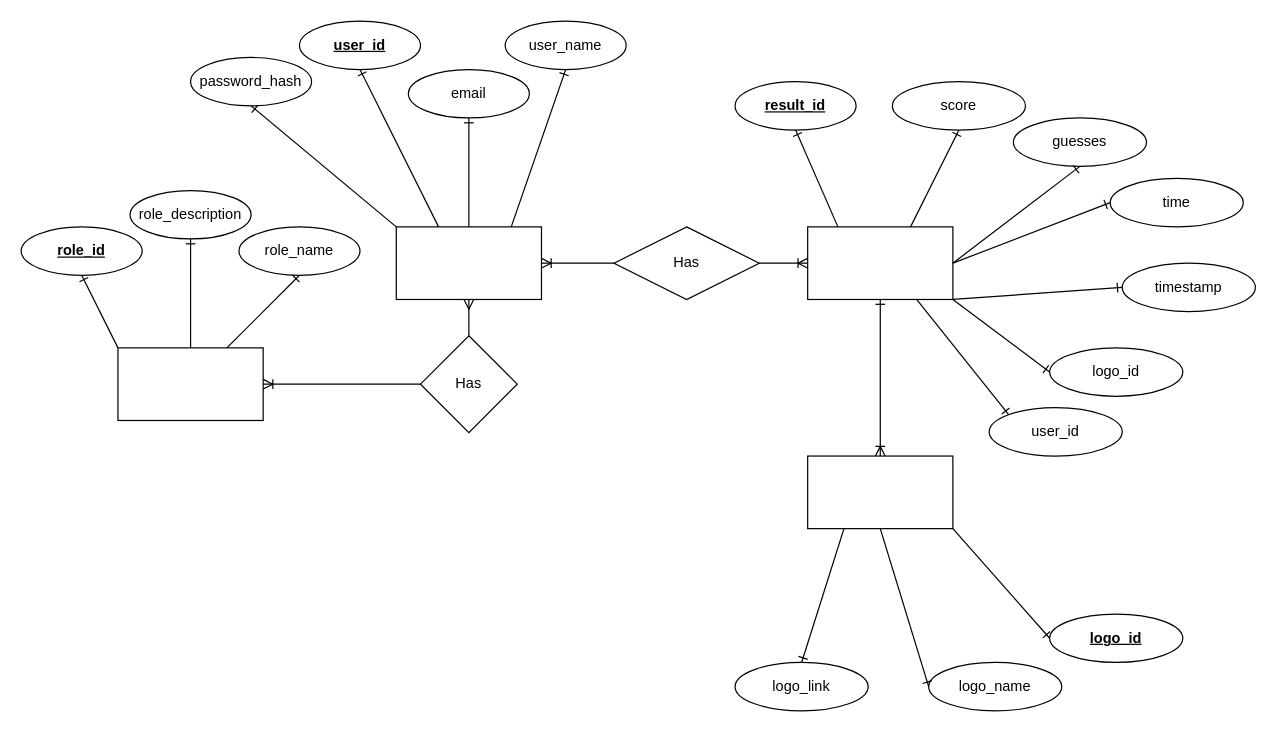
This 1277x732 diagram has some shape labels left out. Each missing label, with the centre of its shape:
"Logo" goes at point (879, 492).
"Result" goes at point (879, 262).
"Roles" goes at point (190, 383).
"User" goes at point (468, 262).
